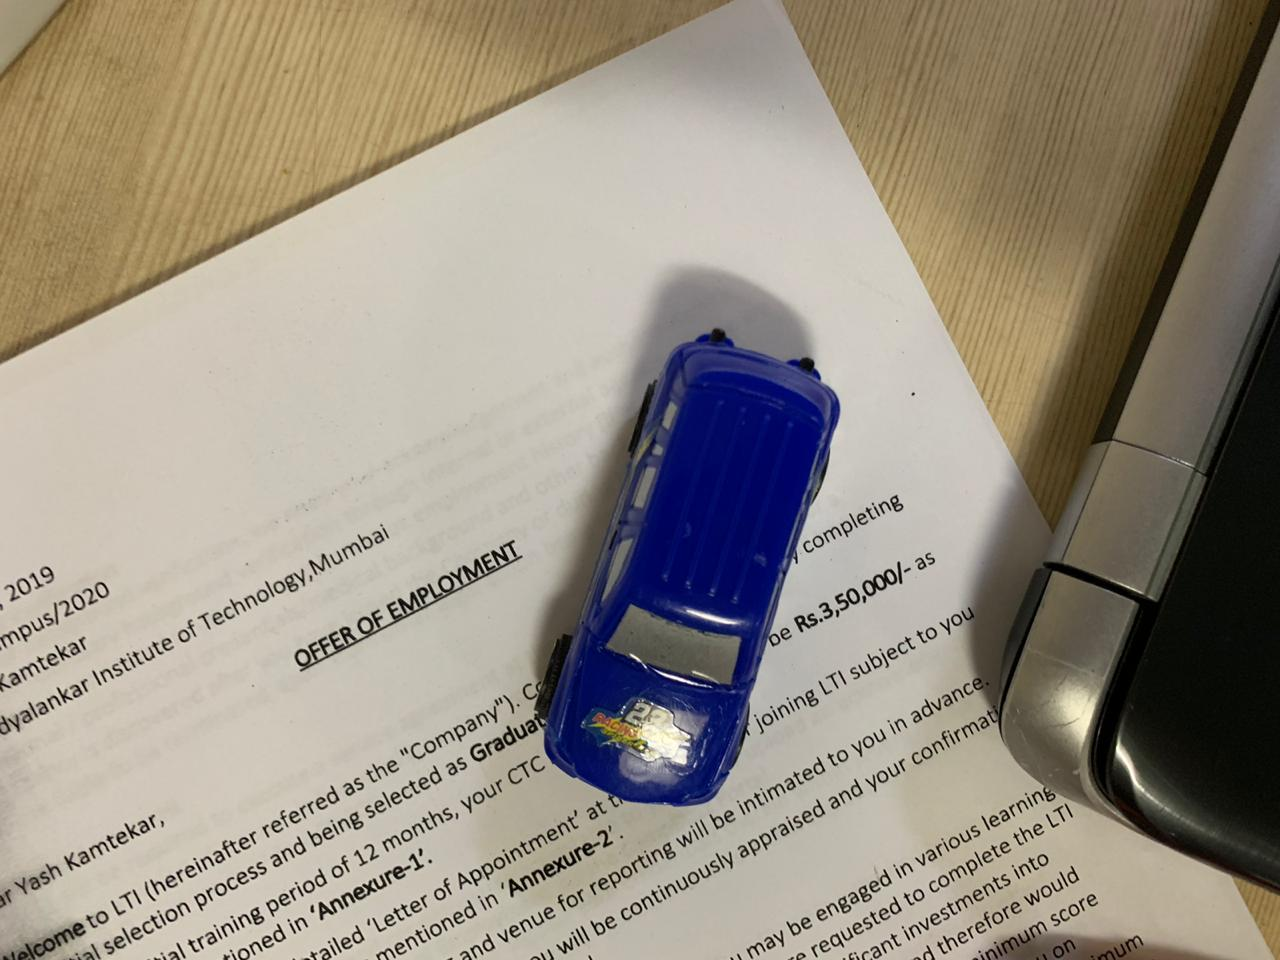car: (536, 314, 849, 822)
